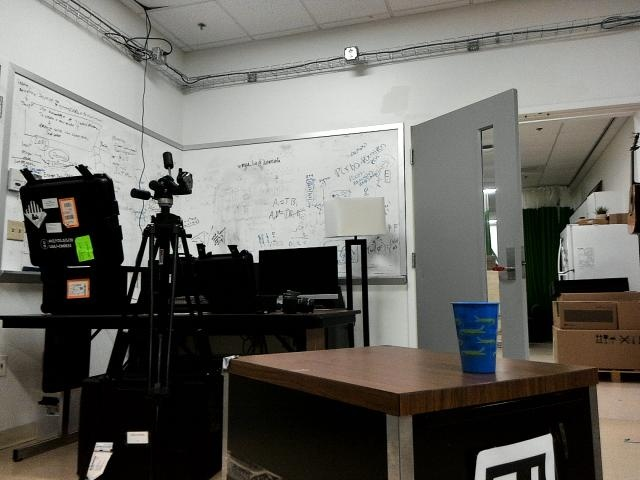water_cup: (443, 299, 504, 376)
